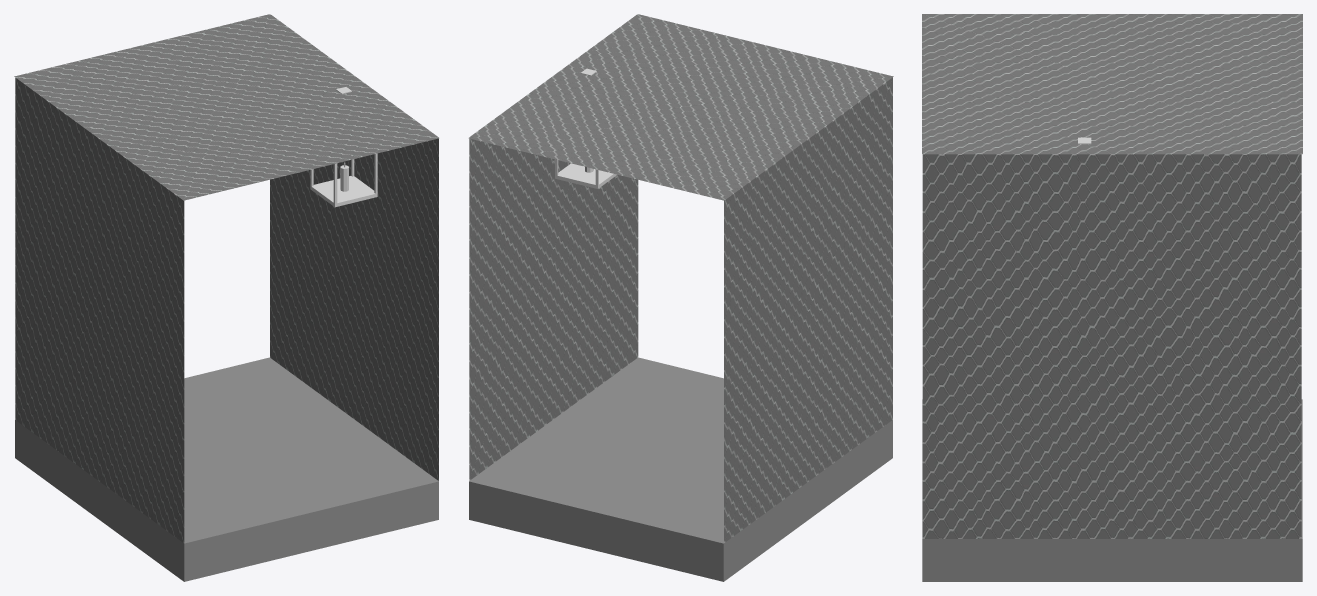
Rendered from chainlinkwalkwaycatwalk.fbx.
3 renders of one model, left to right at view 1: azimuth 30°, elevation 25°; view 2: azimuth 150°, elevation 25°; view 3: azimuth 270°, elevation 25°, orthographic. The views are drawn at different scales.
Visible parts, largest first — view 1: Plane.001, Cube, Plane.002, Plane, Cube.001; view 2: Plane.001, Cube, Plane, Plane.002, Cube.001; view 3: Plane, Plane.002, Cube.
Boxes of the visible parts, x1,y1,x2,y2 form: Plane.001: (15,78,184,543); Cube: (15,357,438,581); Plane.002: (14,14,439,200); Plane: (270,138,438,480); Cube.001: (310,87,377,207); Plane.001: (724,77,892,542); Cube: (469,357,892,581); Plane: (469,138,638,480); Plane.002: (468,14,893,200); Cube.001: (555,68,616,188); Plane: (922,154,1301,538); Plane.002: (922,14,1302,154); Cube: (922,399,1302,581).
Bounding box in the file's own units: 349 × 498 × 401.
